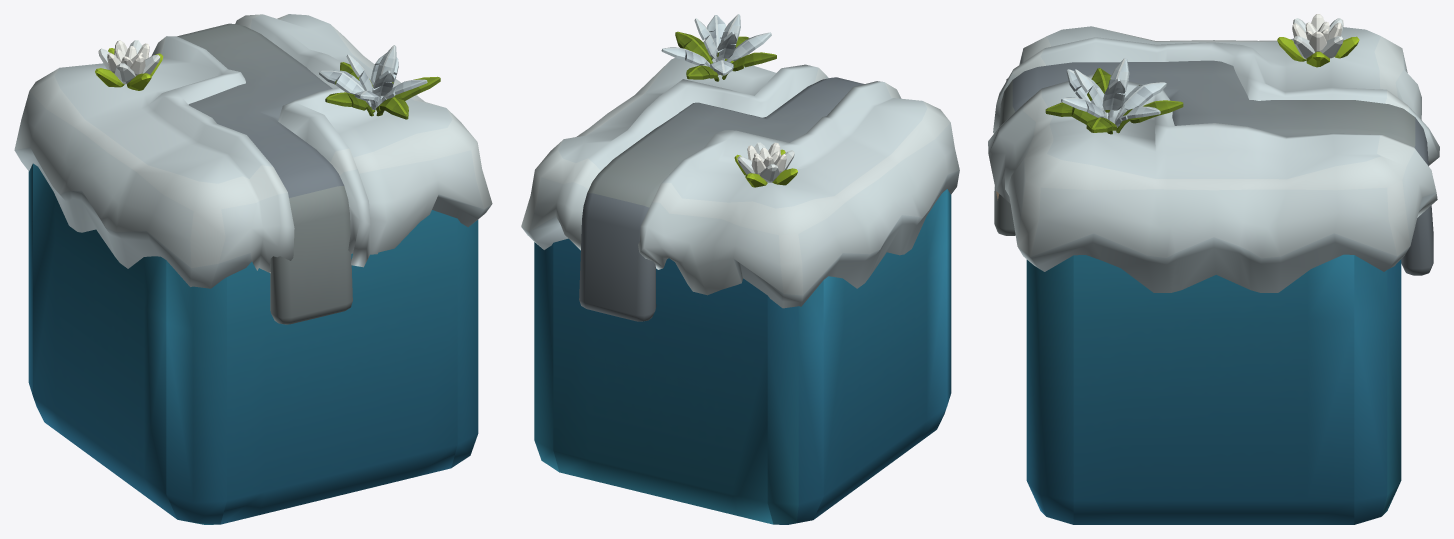
File: Winter6.fbx
3 views of the same model, side by side, from view 1: azimuth 30°, elevation 25°; view 2: azimuth 150°, elevation 25°; view 3: azimuth 270°, elevation 25° (orthographic). The views are drawn at different scales.
Visible parts, largest first — view 1: Winter6, Winter_Cube6.003, Winter6.003, Winter_Cube_06 .001; view 2: Winter6, Winter_Cube6.003, Winter6.003, Winter_Cube_06 .001; view 3: Winter6, Winter_Cube6.003, Winter6.003, Winter_Cube_06 .001.
Part boxes in pixels (bbox=[...]): Winter6: bbox=[28, 163, 478, 524]; Winter_Cube6.003: bbox=[14, 14, 492, 288]; Winter6.003: bbox=[177, 23, 352, 324]; Winter_Cube_06 .001: bbox=[95, 40, 440, 119]; Winter6: bbox=[534, 189, 951, 524]; Winter_Cube6.003: bbox=[521, 58, 959, 308]; Winter6.003: bbox=[579, 77, 864, 321]; Winter_Cube_06 .001: bbox=[661, 14, 797, 187]; Winter6: bbox=[1026, 254, 1401, 524]; Winter_Cube6.003: bbox=[988, 26, 1439, 292]; Winter6.003: bbox=[994, 60, 1433, 275]; Winter_Cube_06 .001: bbox=[1045, 14, 1359, 134].
Bounding box in the file's own units: 112 × 128 × 121.
